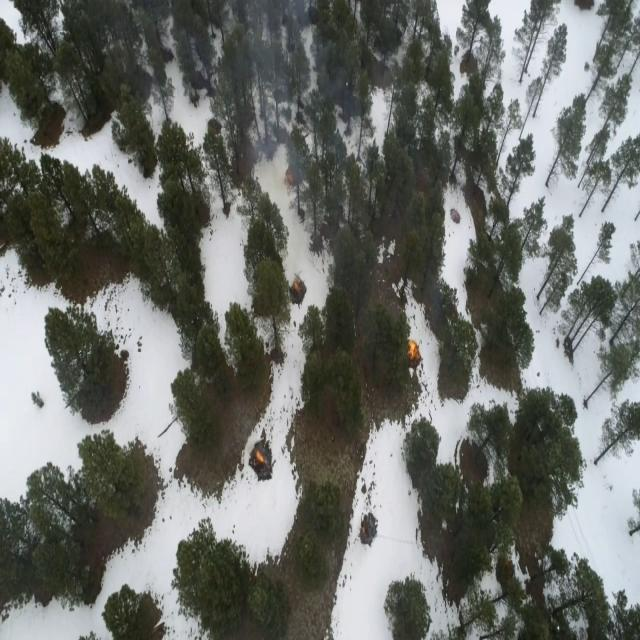Fire: (406, 334, 424, 371), (253, 442, 270, 479), (288, 274, 307, 300), (281, 166, 300, 190)
Smoke: (219, 1, 357, 224)
